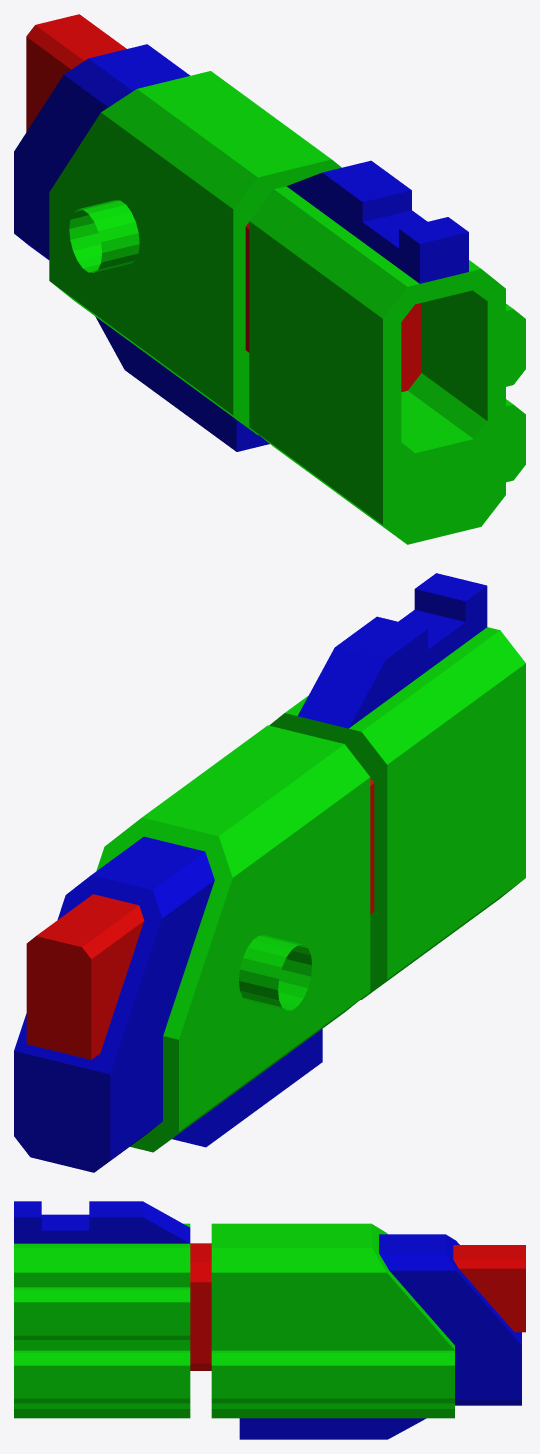
The model's file is WeaponBot_Phaser_LVL1.FBX.
3 renders of one model, top to bottom at view 1: azimuth 30°, elevation 25°; view 2: azimuth 150°, elevation 25°; view 3: azimuth 270°, elevation 25°, orthographic. The views are drawn at different scales.
Visible parts, largest first — view 1: WeaponBot_Phaser_LVL1; view 2: WeaponBot_Phaser_LVL1; view 3: WeaponBot_Phaser_LVL1.
Boxes of the visible parts, x1=… form: WeaponBot_Phaser_LVL1: x1=14, y1=14, x2=525, y2=544; WeaponBot_Phaser_LVL1: x1=14, y1=573, x2=525, y2=1172; WeaponBot_Phaser_LVL1: x1=14, y1=1201, x2=525, y2=1439.
Bounding box in the file's own units: 23.73 × 41.39 × 88.01.
